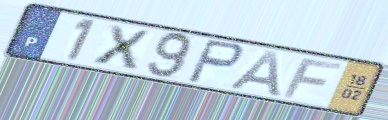1: (65, 18, 97, 64)
9: (144, 31, 194, 81)
A: (226, 49, 284, 100)
F: (279, 57, 346, 100)
P: (184, 38, 246, 86)
X: (90, 23, 153, 72)
